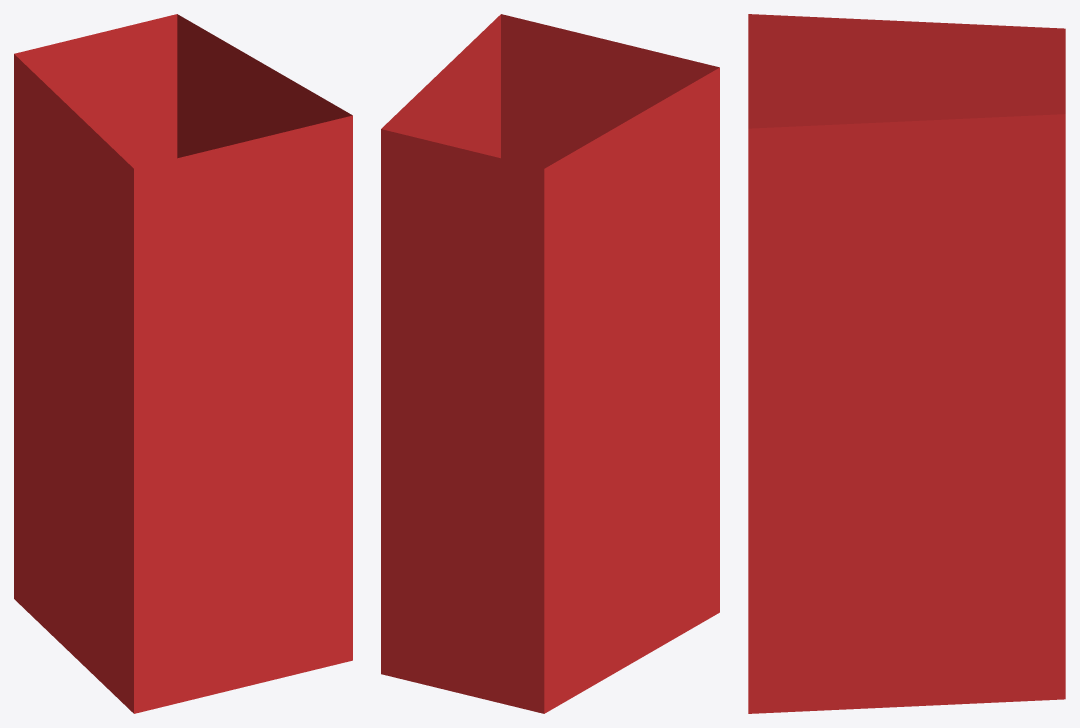
The model's file is Itr_Obj_Speaker3_Base_05.FBX.
3 views of the same model, side by side, from view 1: azimuth 30°, elevation 25°; view 2: azimuth 150°, elevation 25°; view 3: azimuth 270°, elevation 25° (orthographic). The views are drawn at different scales.
Visible parts, largest first — view 1: Itr_Obj_Speaker3_Base_05; view 2: Itr_Obj_Speaker3_Base_05; view 3: Itr_Obj_Speaker3_Base_05.
Part boxes in pixels (x1,y1,x2,y2): Itr_Obj_Speaker3_Base_05: [14, 14, 352, 713]; Itr_Obj_Speaker3_Base_05: [381, 14, 719, 713]; Itr_Obj_Speaker3_Base_05: [748, 14, 1065, 713].
Size of the model in its own units: 9.88 by 23.51 by 11.56.
